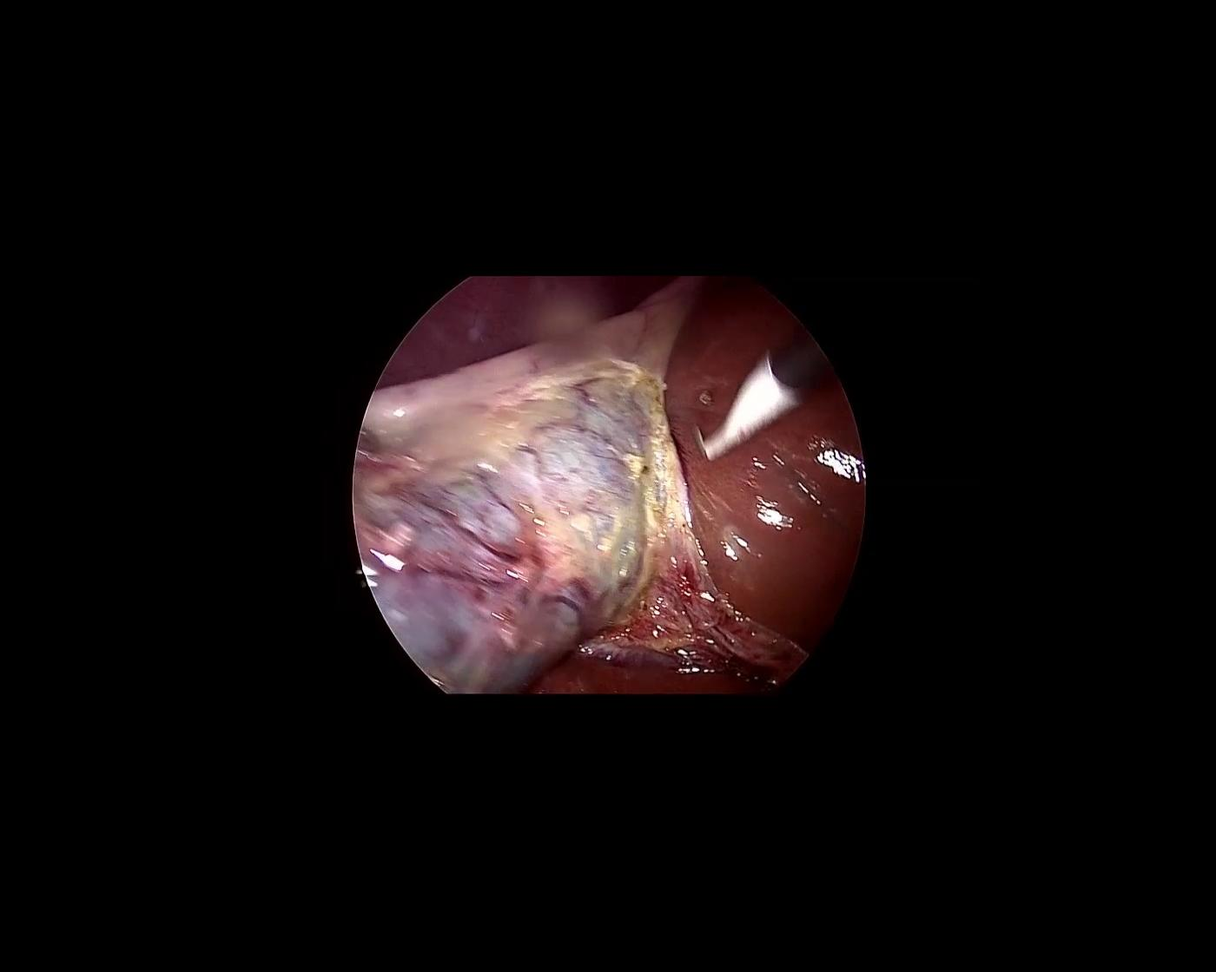Cautery: (675, 324, 837, 472)
Gallbladder: (326, 331, 702, 721)
Liver: (632, 253, 906, 672)
